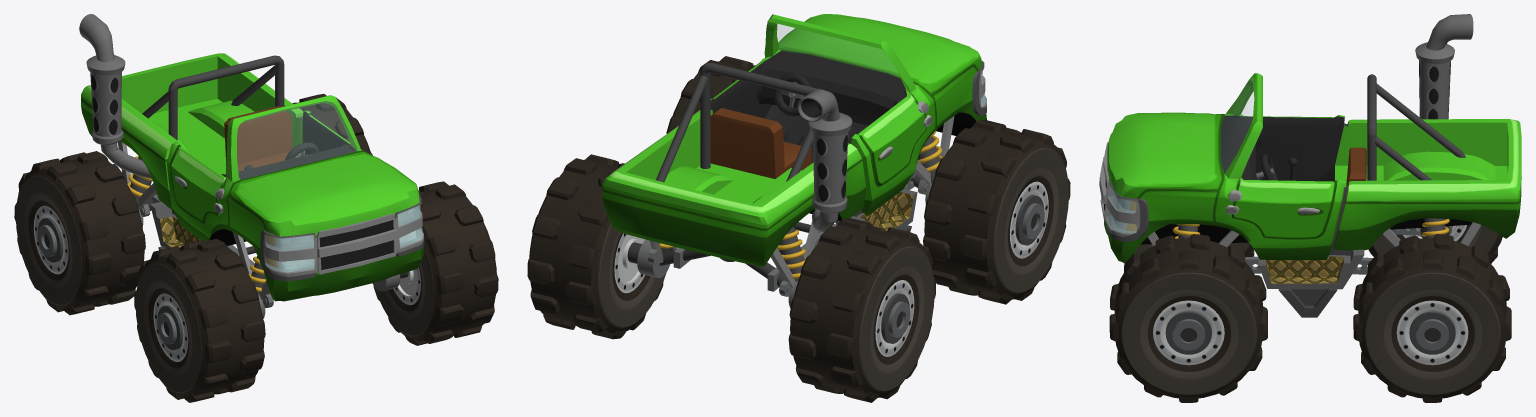
The model's file is hcr2_monster_truck.glb.
3 views of the same model, side by side, from view 1: azimuth 30°, elevation 25°; view 2: azimuth 150°, elevation 25°; view 3: azimuth 270°, elevation 25° (orthographic). The views are drawn at different scales.
Parts seen in each view (by area): view 1: HCR2_MT_Body_20, HCR2_MT_FL_Wheel_17, HCR2_MT_RL_Wheel_19, HCR2_MT_FR_Wheel_16, HCR2_MT_Window_0, HCR2_MT_Exhaust_10, HCR2_MT_Lights_9, HCR2_MT_Grl_7, HCR2_MT_Seat_5, HCR2_MT_Cage_13, HCR2_MT_Interior_6, HCR2_MT_Lights_Cover_8 (+4 smaller); view 2: HCR2_MT_Body_20, HCR2_MT_RL_Wheel_19, HCR2_MT_FL_Wheel_17, HCR2_MT_RR_Wheel_18, HCR2_MT_Interior_6, HCR2_MT_Exhaust_10, HCR2_MT_Seat_5, HCR2_MT_Cage_13, HCR2_MT_Susp_Rear_1, HCR2_MT_Window_0, HCR2_MT_Details_11, HCR2_MT_FR_Wheel_16 (+5 smaller); view 3: HCR2_MT_Body_20, HCR2_MT_RR_Wheel_18, HCR2_MT_FR_Wheel_16, HCR2_MT_Interior_6, HCR2_MT_Details_11, HCR2_MT_Exhaust_10, HCR2_MT_Cage_13, HCR2_MT_Lights_9, HCR2_MT_Window_0, HCR2_MT_RL_Wheel_19, HCR2_MT_Chassis_12, HCR2_MT_Susp_Rear_1 (+6 smaller).
Boxes of the visible parts, bbox=[...] form: HCR2_MT_Body_20: bbox=[81, 53, 424, 301]; HCR2_MT_FL_Wheel_17: bbox=[134, 238, 265, 402]; HCR2_MT_RL_Wheel_19: bbox=[14, 151, 145, 315]; HCR2_MT_FR_Wheel_16: bbox=[373, 181, 498, 345]; HCR2_MT_Window_0: bbox=[237, 101, 356, 178]; HCR2_MT_Exhaust_10: bbox=[79, 14, 151, 178]; HCR2_MT_Lights_9: bbox=[260, 195, 424, 281]; HCR2_MT_Grl_7: bbox=[316, 213, 397, 274]; HCR2_MT_Seat_5: bbox=[224, 106, 296, 171]; HCR2_MT_Cage_13: bbox=[142, 55, 284, 140]; HCR2_MT_Interior_6: bbox=[221, 111, 356, 179]; HCR2_MT_Lights_Cover_8: bbox=[265, 205, 422, 272]; HCR2_MT_Body_20: bbox=[602, 14, 986, 266]; HCR2_MT_RL_Wheel_19: bbox=[788, 218, 935, 402]; HCR2_MT_FL_Wheel_17: bbox=[923, 120, 1070, 304]; HCR2_MT_RR_Wheel_18: bbox=[527, 154, 666, 339]; HCR2_MT_Interior_6: bbox=[710, 51, 906, 163]; HCR2_MT_Exhaust_10: bbox=[797, 89, 852, 232]; HCR2_MT_Seat_5: bbox=[710, 108, 811, 178]; HCR2_MT_Cage_13: bbox=[656, 63, 819, 182]; HCR2_MT_Susp_Rear_1: bbox=[627, 209, 818, 308]; HCR2_MT_Window_0: bbox=[777, 24, 899, 77]; HCR2_MT_Details_11: bbox=[794, 101, 932, 232]; HCR2_MT_FR_Wheel_16: bbox=[666, 56, 755, 133]; HCR2_MT_Body_20: bbox=[1104, 73, 1521, 263]; HCR2_MT_RR_Wheel_18: bbox=[1353, 234, 1511, 402]; HCR2_MT_FR_Wheel_16: bbox=[1109, 234, 1267, 402]; HCR2_MT_Interior_6: bbox=[1221, 115, 1344, 181]; HCR2_MT_Details_11: bbox=[1226, 190, 1364, 317]; HCR2_MT_Exhaust_10: bbox=[1415, 14, 1473, 119]; HCR2_MT_Cage_13: bbox=[1367, 74, 1465, 180]; HCR2_MT_Lights_9: bbox=[1105, 182, 1148, 241]; HCR2_MT_Window_0: bbox=[1221, 79, 1253, 172]; HCR2_MT_RL_Wheel_19: bbox=[1368, 225, 1502, 263]; HCR2_MT_Chassis_12: bbox=[1141, 218, 1471, 244]; HCR2_MT_Susp_Rear_1: bbox=[1383, 218, 1480, 246].
Bounding box in the file's own units: 3.58 × 3.04 × 4.26.
Materials: 4 (2 with a texture image).
